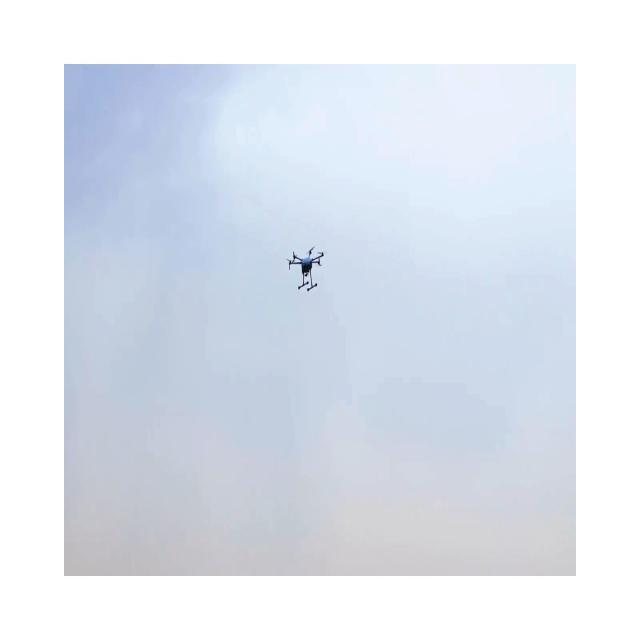drone: (286, 246, 324, 292)
